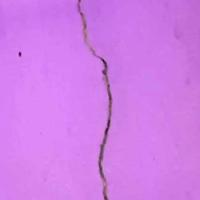crack: (66, 0, 148, 199)
